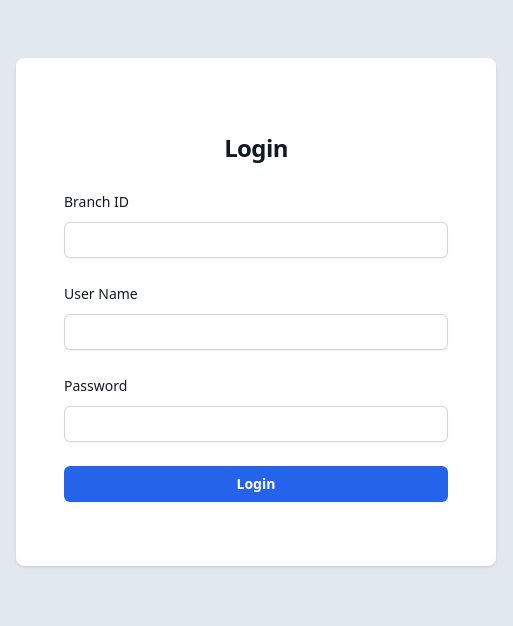
should validate Branch ID fields only number
The image size is (513, 626).
In the field labelled "Branch ID": (256, 240) [64,222,448,258], type "no number value"
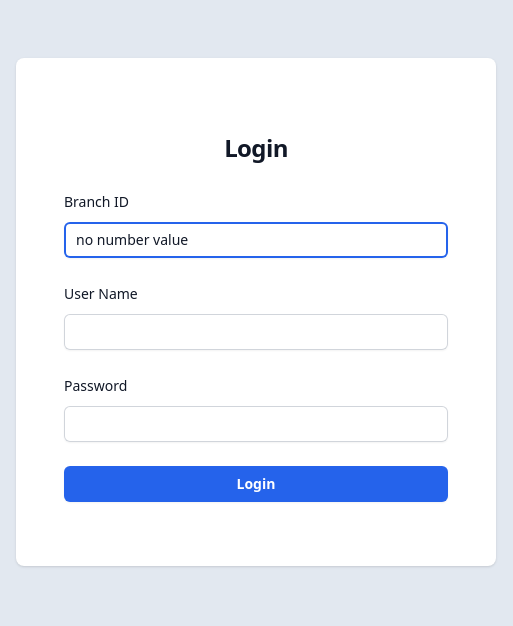
Click the button "Login": (256, 484) [64,466,448,502]
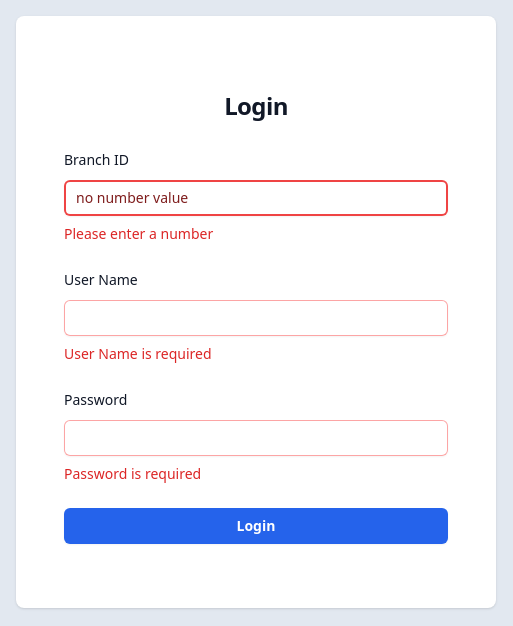
Expected: the text "Please enter a number" is shown, [64,224,213,243]
Replace the text in the field labelled "Branch ID" with "1000001": (256, 198) [64,180,448,216]
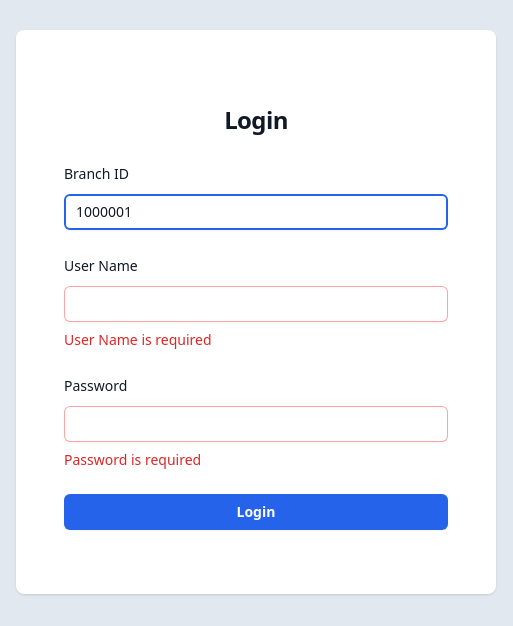
Expected: the text "Please enter a number" is gone
